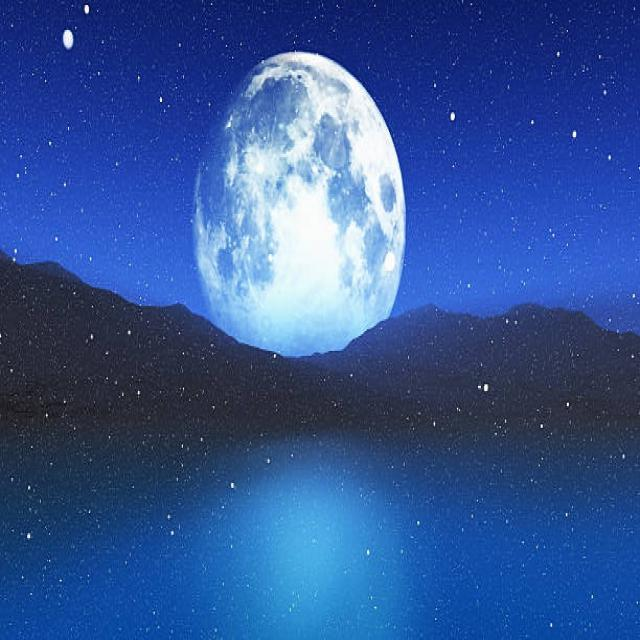moon: (176, 43, 408, 371)
